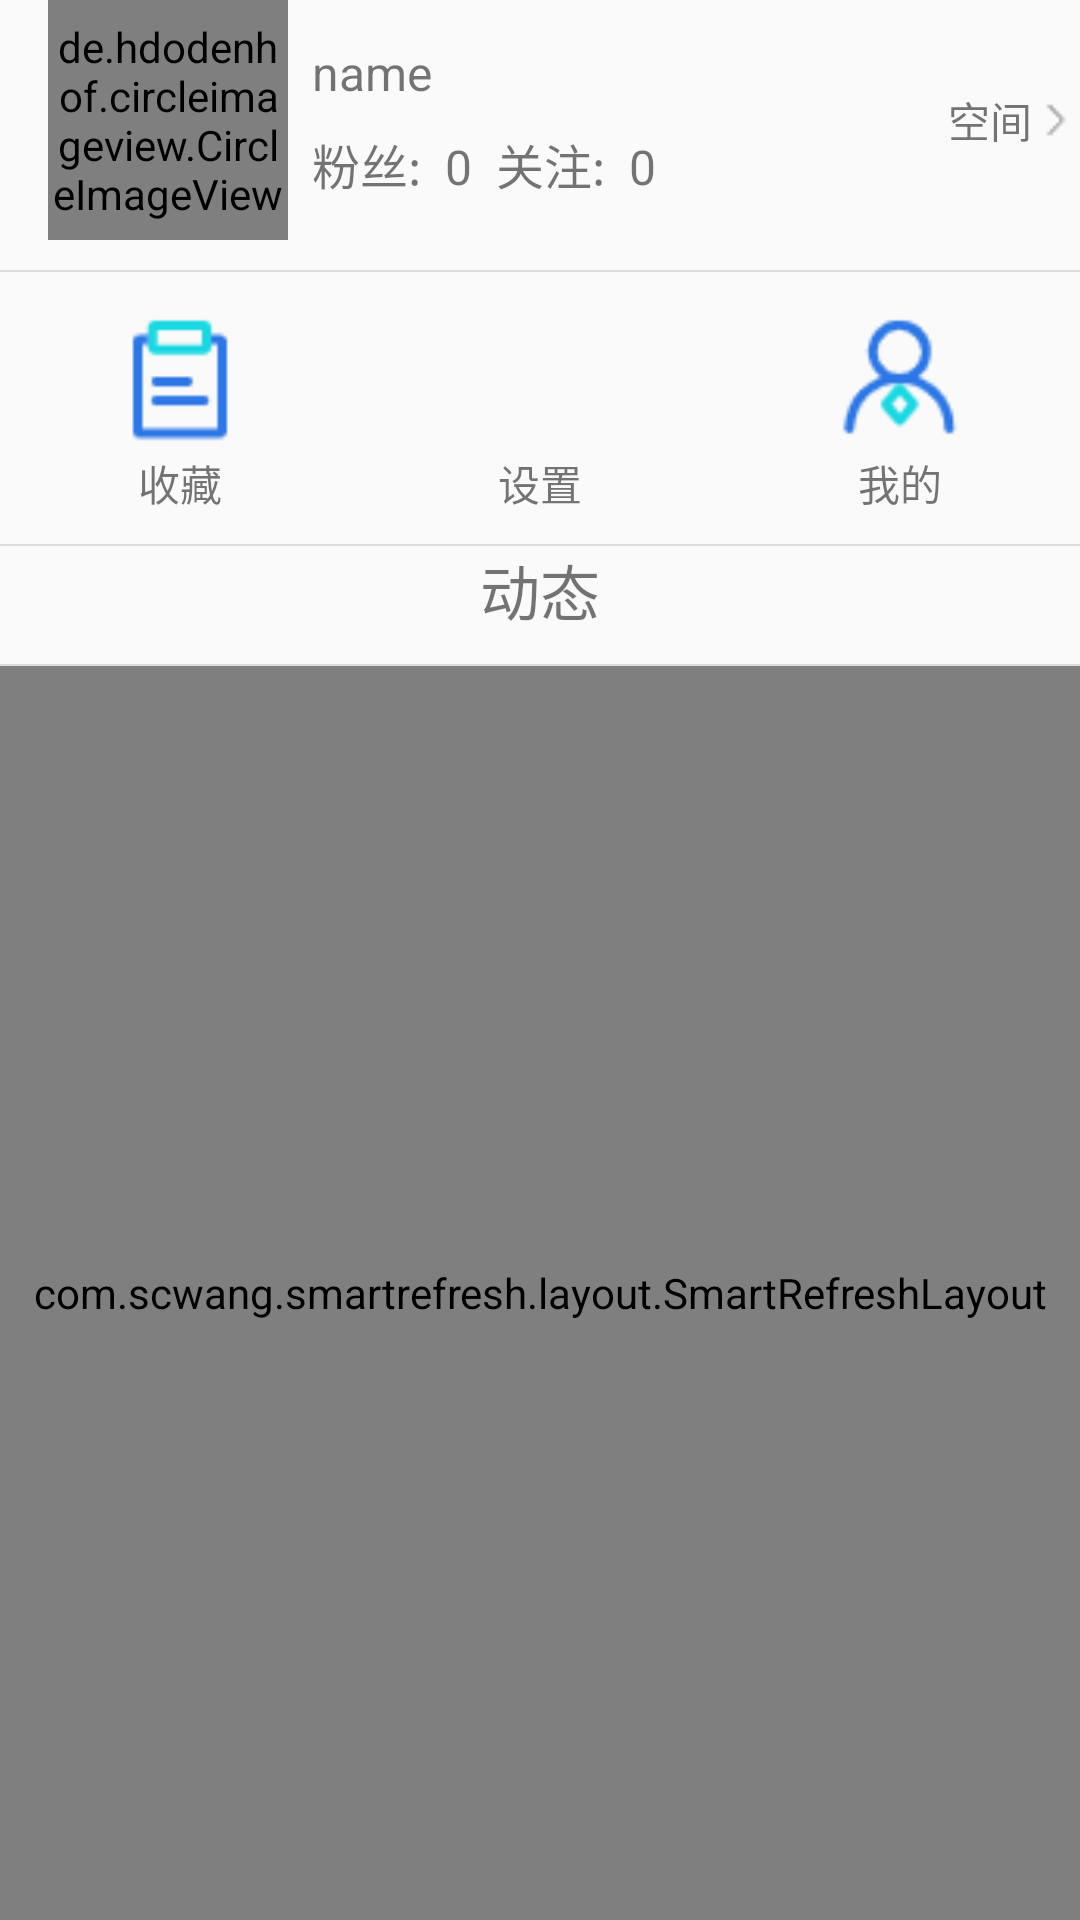

Icons on this 1080*1920 Android screen, each with the point to tap as [x,y]:
right back: [1056,120]
